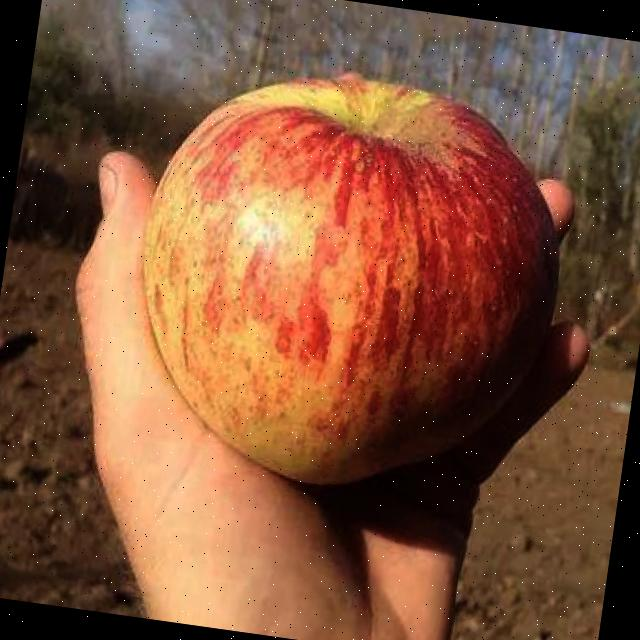apple: (79, 0, 614, 567)
